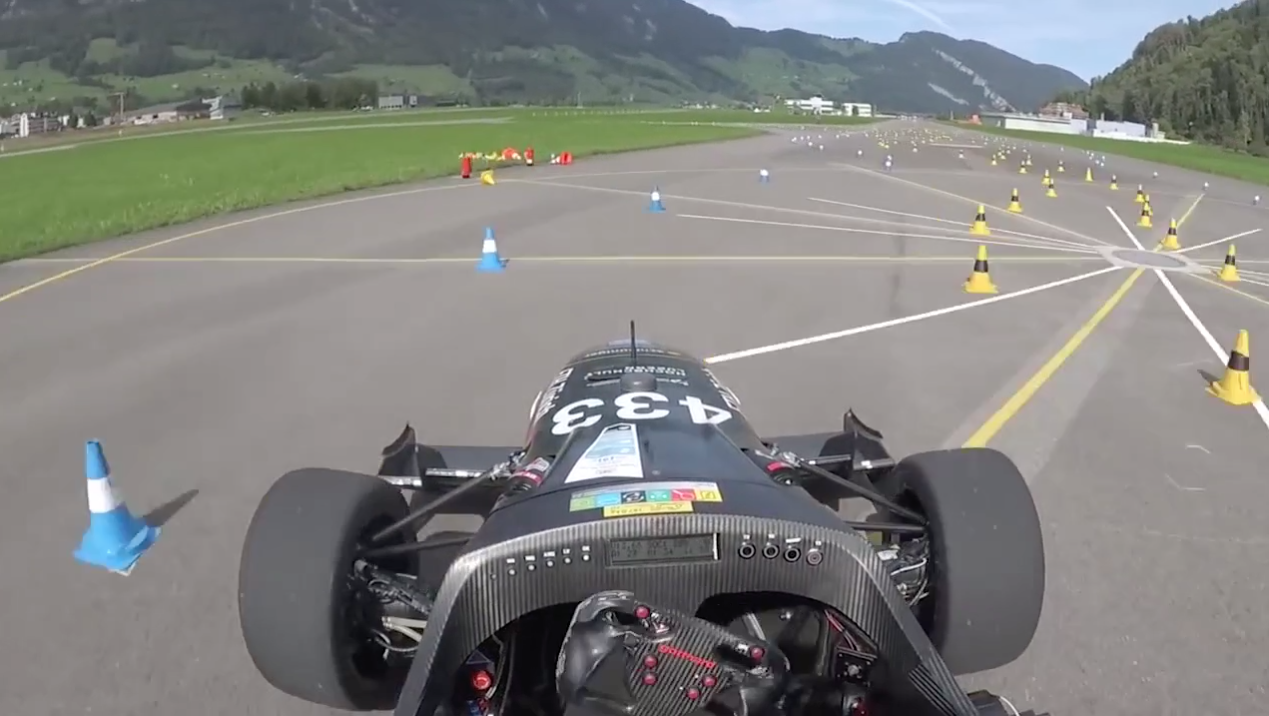lcone: (62, 431, 168, 578), (472, 224, 513, 276), (645, 183, 669, 214)
rcone: (1200, 324, 1266, 410), (959, 243, 1000, 299), (1213, 240, 1247, 284), (966, 200, 995, 240), (1158, 216, 1188, 252)
